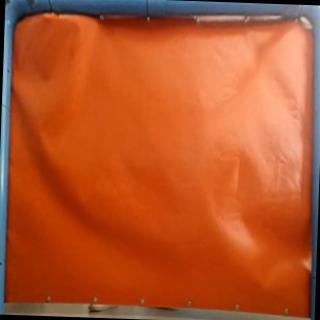Hit-hRxx: (42, 14, 54, 24)
